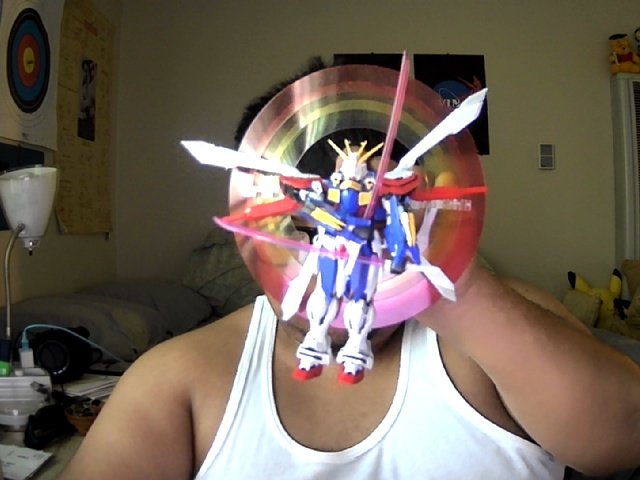God: (178, 64, 491, 384)
